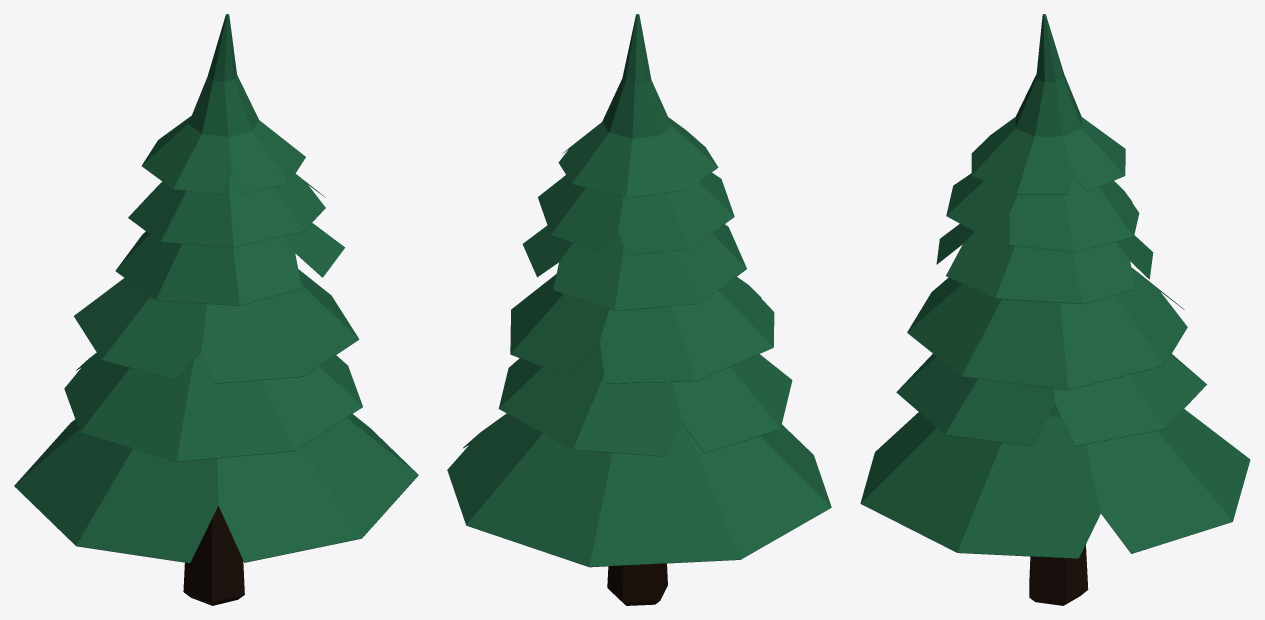
Rendered from light_fat_pine_tree2.obj.
3 renders of one model, left to right at view 1: azimuth 30°, elevation 25°; view 2: azimuth 150°, elevation 25°; view 3: azimuth 270°, elevation 25°, orthographic.
Parts seen in each view (by area): view 1: Tree4_2_Cylinder.027; view 2: Tree4_2_Cylinder.027; view 3: Tree4_2_Cylinder.027.
Boxes of the visible parts, x1,y1,x2,y2 form: Tree4_2_Cylinder.027: [14, 14, 418, 605]; Tree4_2_Cylinder.027: [447, 14, 831, 605]; Tree4_2_Cylinder.027: [860, 14, 1250, 605].
Bounding box in the file's own units: 7.51 × 12.54 × 7.58.
